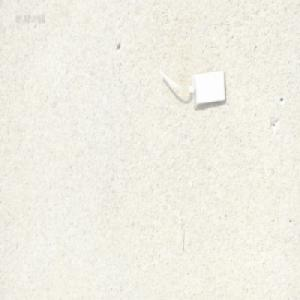LuggageTag: (156, 67, 227, 109)
